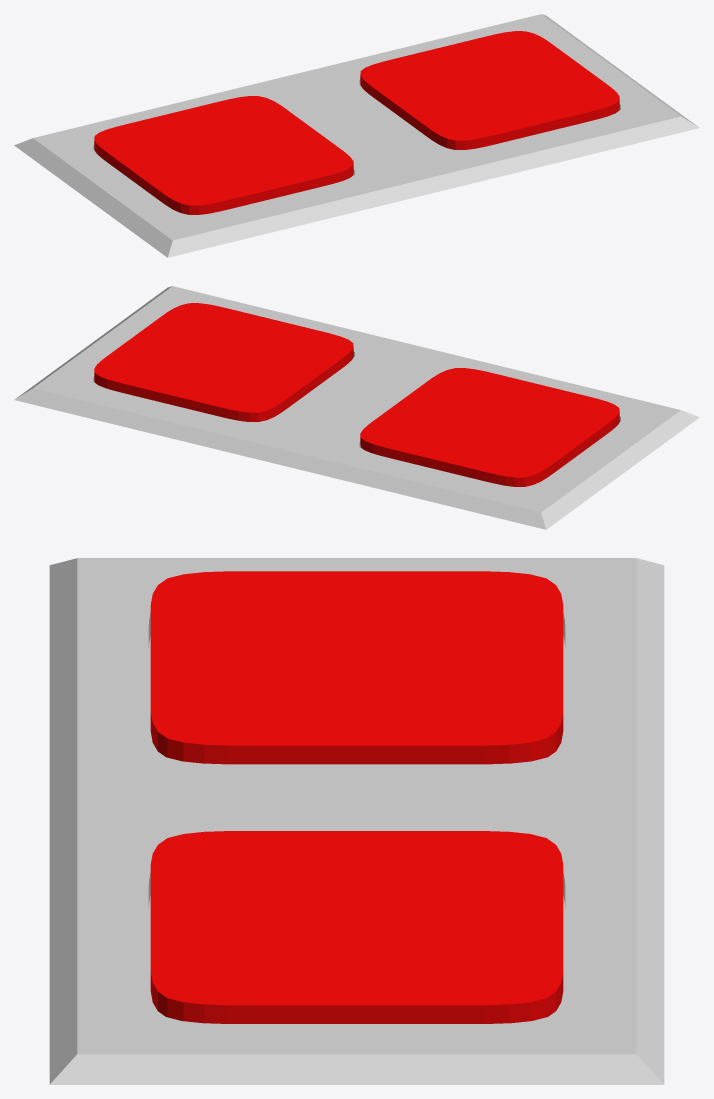
Rendered from props.fbx_B9.fbx.
3 renders of one model, top to bottom at view 1: azimuth 30°, elevation 25°; view 2: azimuth 150°, elevation 25°; view 3: azimuth 270°, elevation 25°, orthographic. The views are drawn at different scales.
Visible parts, largest first — view 1: Plane.009, Plane.008, Plane.011; view 2: Plane.009, Plane.008, Plane.011; view 3: Plane.009, Plane.008, Plane.011.
Boxes of the visible parts, x1,y1,x2,y2 form: Plane.009: (14, 14, 699, 257); Plane.008: (94, 96, 353, 214); Plane.011: (360, 31, 619, 149); Plane.009: (14, 286, 699, 529); Plane.008: (360, 368, 619, 486); Plane.011: (94, 303, 353, 421); Plane.009: (49, 558, 664, 1084); Plane.008: (150, 571, 563, 764); Plane.011: (150, 831, 563, 1023).
Bounding box in the file's own units: 2.99 × 0.1111 × 1.5.
